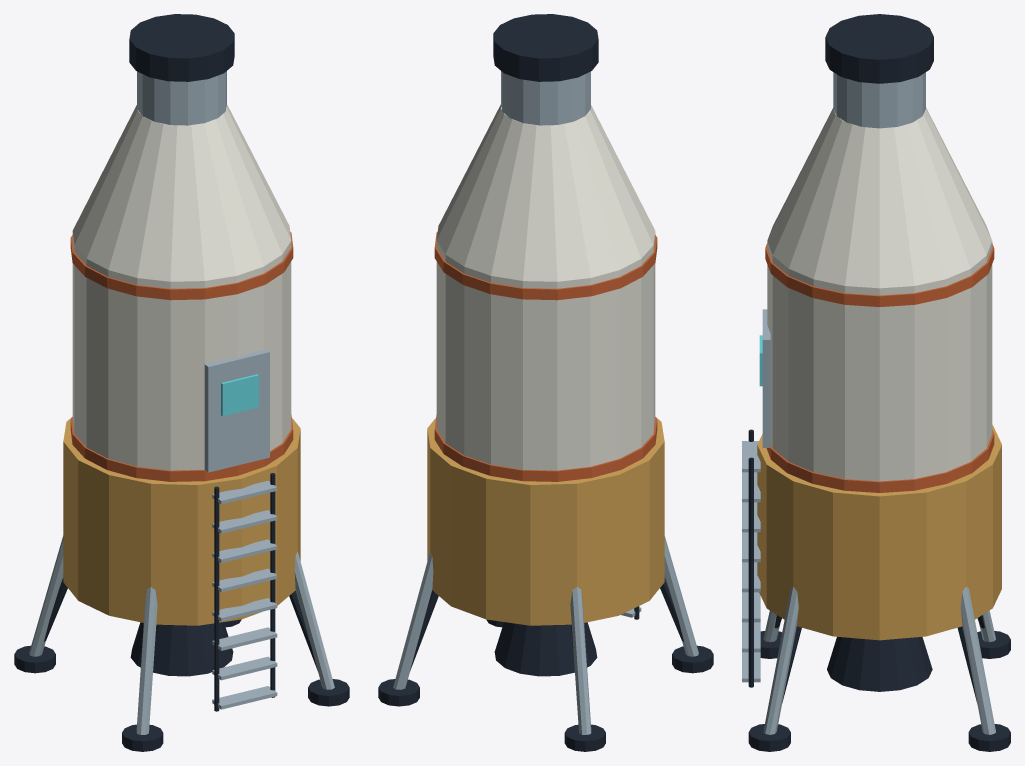
Rendered from lander.obj.
3 views of the same model, side by side, from view 1: azimuth 30°, elevation 25°; view 2: azimuth 150°, elevation 25°; view 3: azimuth 270°, elevation 25° (orthographic). The views are drawn at different scales.
Parts seen in each view (by area): view 1: Habitat_module, Lower_module, Upper_shell, Docking_ring, Hatch, Docking_neck, Engine_bell, Accent_7_3, Accent_4_2, Leg_3, Leg_0, Hatch_window (+14 smaller); view 2: Habitat_module, Lower_module, Upper_shell, Docking_ring, Engine_bell, Docking_neck, Accent_7_3, Accent_4_2, Leg_2, Leg_1, Leg_3, Foot_1 (+2 smaller); view 3: Habitat_module, Lower_module, Upper_shell, Docking_ring, Engine_bell, Docking_neck, Accent_7_3, Accent_4_2, Leg_0, Leg_1, Ladder_rail_0_5, Hatch (+4 smaller).
Part boxes in pixels (x1,y1,x2,y2): Habitat_module: [72, 232, 291, 470]; Lower_module: [63, 417, 300, 625]; Upper_shell: [72, 104, 291, 281]; Docking_ring: [129, 14, 234, 81]; Hatch: [204, 349, 269, 472]; Docking_neck: [137, 71, 226, 125]; Engine_bell: [130, 622, 233, 676]; Accent_7_3: [70, 232, 293, 300]; Accent_4_2: [70, 415, 293, 481]; Leg_3: [136, 587, 157, 734]; Leg_0: [294, 551, 334, 689]; Hatch_window: [221, 374, 258, 416]; Habitat_module: [436, 232, 655, 470]; Lower_module: [427, 417, 664, 625]; Upper_shell: [436, 104, 655, 281]; Docking_ring: [493, 14, 598, 81]; Engine_bell: [494, 622, 597, 676]; Docking_neck: [501, 71, 590, 125]; Accent_7_3: [434, 232, 657, 300]; Accent_4_2: [434, 415, 657, 481]; Leg_2: [570, 587, 591, 734]; Leg_1: [393, 551, 433, 689]; Leg_3: [664, 536, 698, 656]; Foot_1: [378, 679, 419, 706]; Habitat_module: [767, 241, 992, 481]; Lower_module: [757, 425, 1001, 640]; Upper_shell: [767, 107, 991, 288]; Docking_ring: [825, 14, 933, 83]; Engine_bell: [827, 636, 932, 691]; Docking_neck: [833, 72, 925, 128]; Accent_7_3: [765, 243, 994, 307]; Accent_4_2: [766, 429, 994, 492]; Leg_0: [763, 586, 798, 734]; Leg_1: [960, 586, 995, 734]; Ladder_rail_0_5: [748, 457, 753, 687]; Hatch: [762, 309, 770, 447].
Bounding box in the file's own units: 3.96 × 11 × 4.06.
